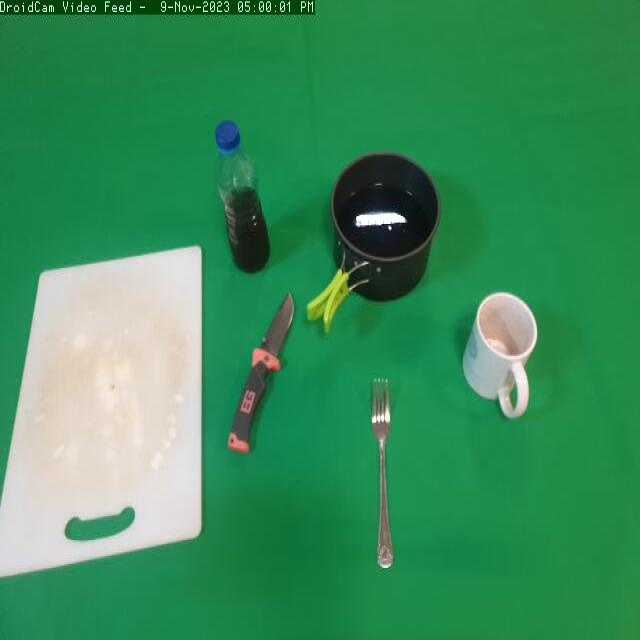cup: (459, 283, 542, 447)
cutting board: (0, 238, 213, 594)
fork: (361, 367, 414, 585)
fullbottle: (208, 111, 276, 298)
fullpot: (300, 146, 441, 331)
knife: (226, 288, 302, 460)
